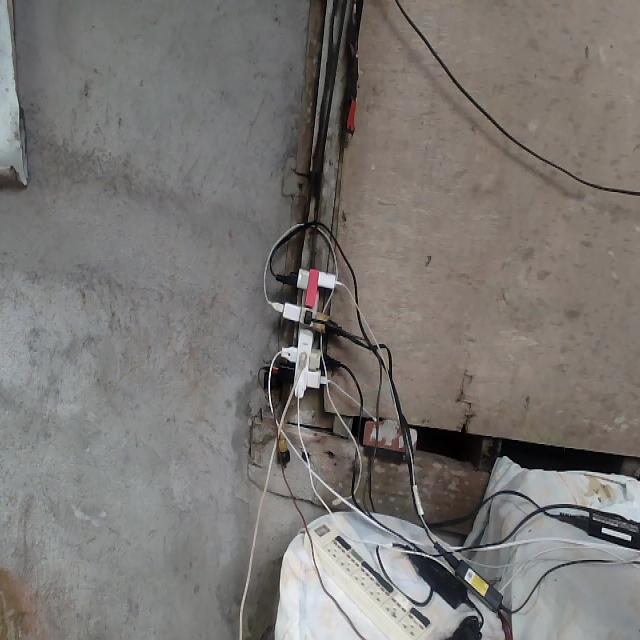-: (269, 262, 342, 398)
